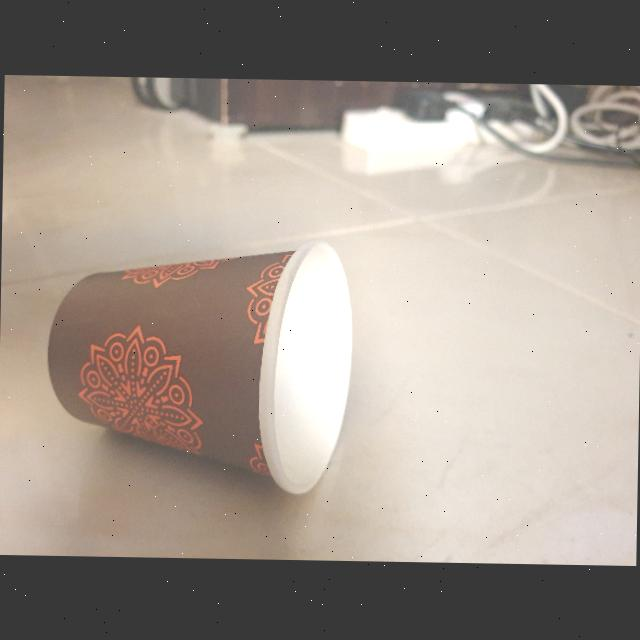trash: (41, 231, 356, 497)
